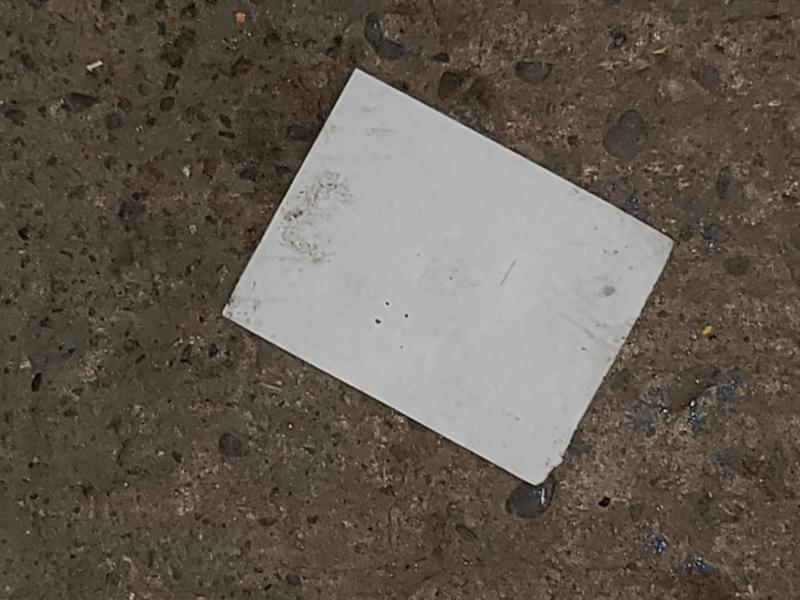papel: (224, 72, 673, 503)
